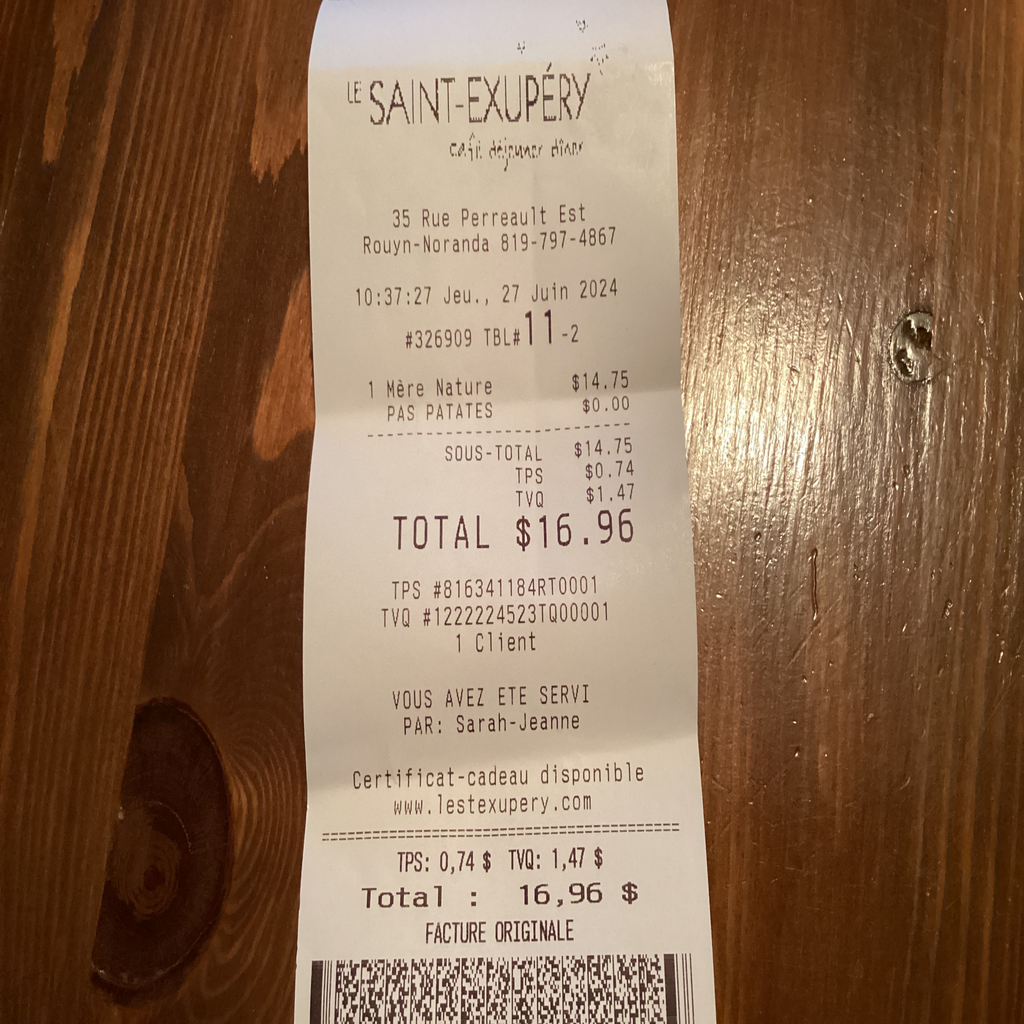recipt: (294, 0, 722, 1024)
